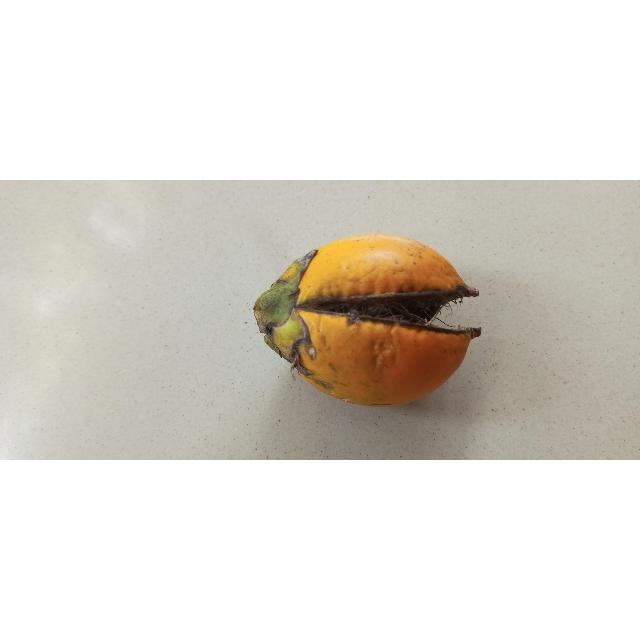damaged: (253, 234, 483, 408)
